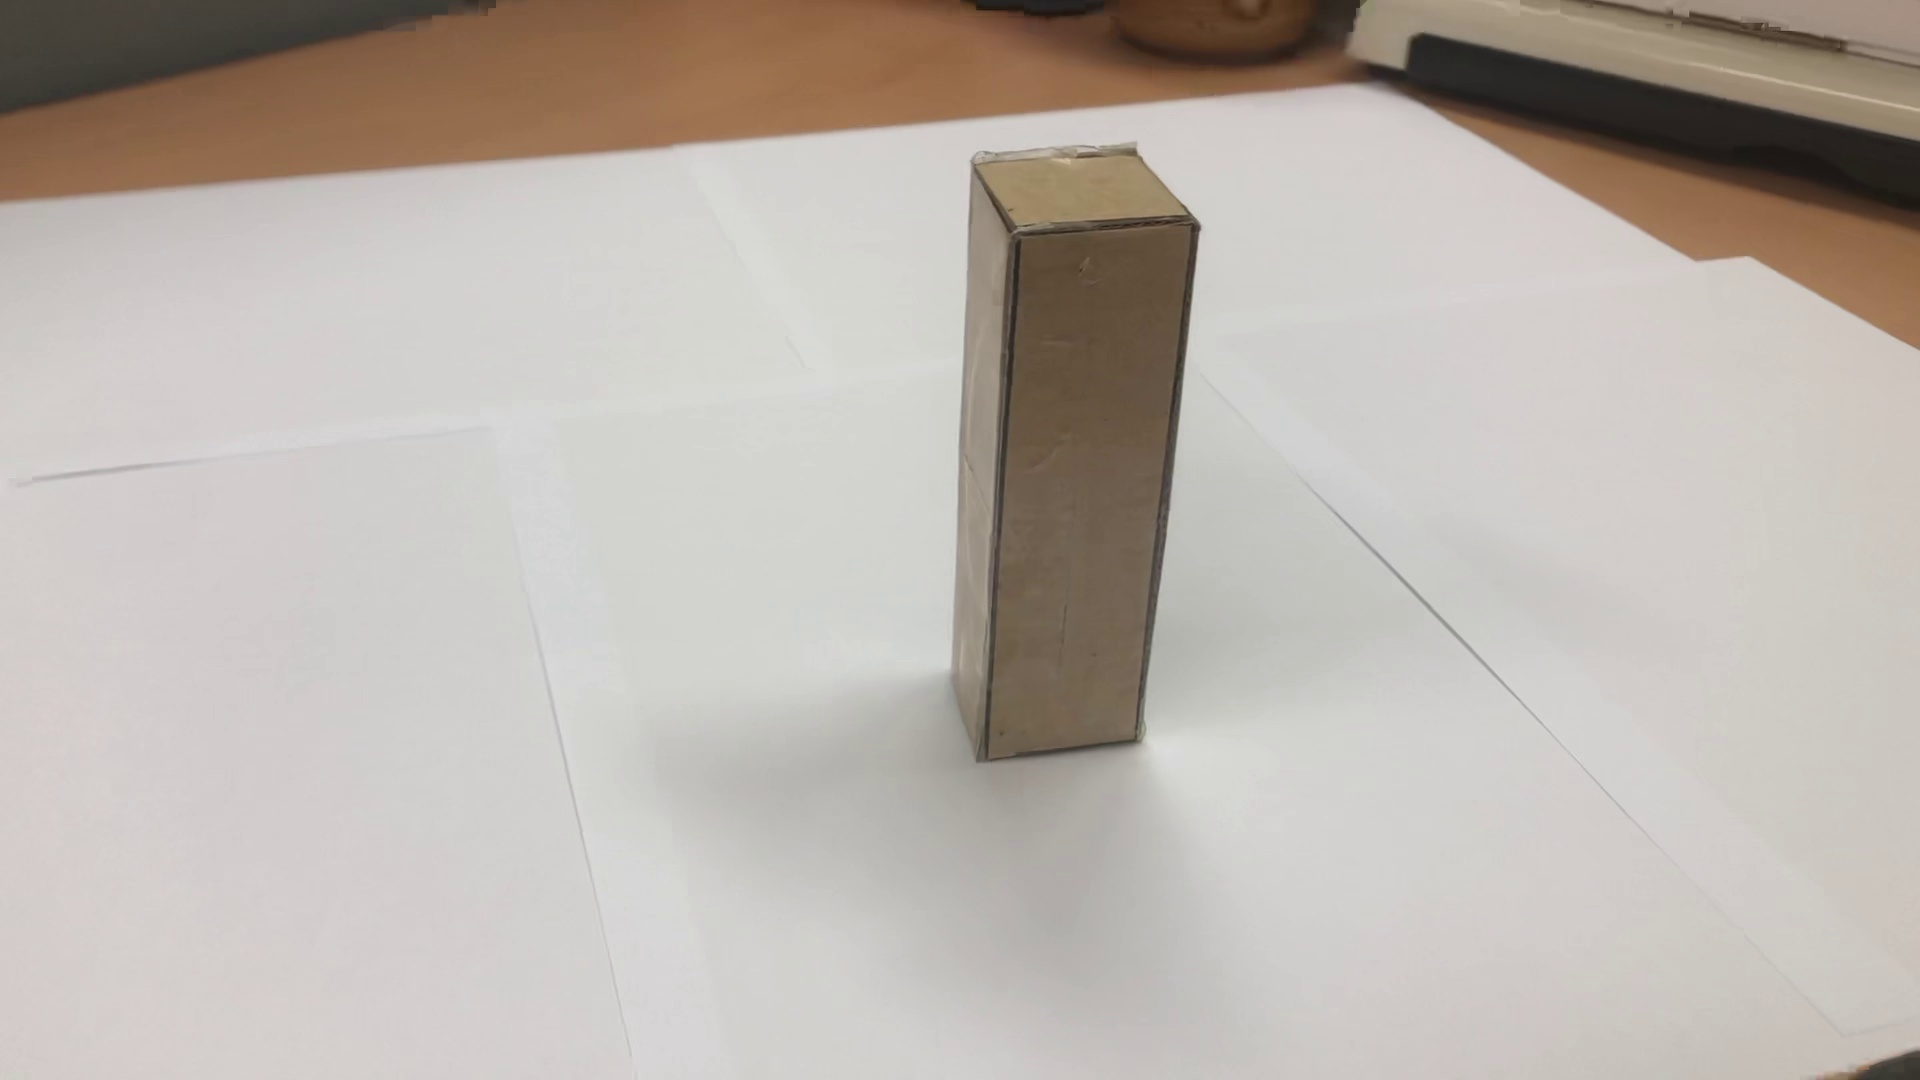box: (934, 117, 1193, 785)
